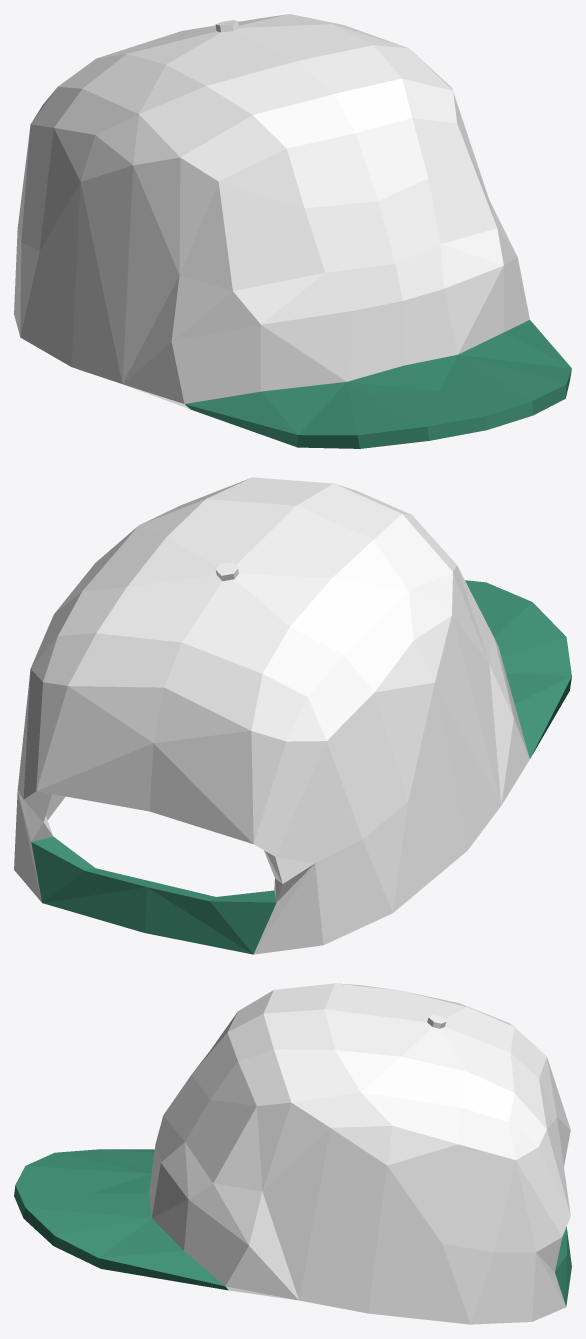
File: TouristGuy_Hat_B.fbx
The picture shows the model from 3 angles, top to bottom: view 1: azimuth 30°, elevation 25°; view 2: azimuth 150°, elevation 25°; view 3: azimuth 270°, elevation 25°; orthographic projection. The views are drawn at different scales.
Visible parts, largest first — view 1: TouristGuy_Hat_B; view 2: TouristGuy_Hat_B; view 3: TouristGuy_Hat_B.
Part boxes in pixels (x1,y1,x2,y2): TouristGuy_Hat_B: (14, 14, 571, 448); TouristGuy_Hat_B: (14, 477, 571, 954); TouristGuy_Hat_B: (14, 983, 571, 1324).
Size of the model in its own units: 21.08 by 16.15 by 31.62.
